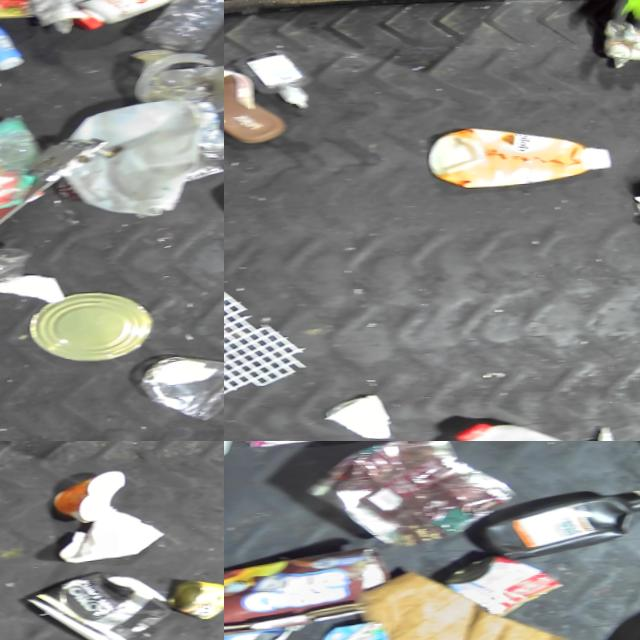can: (298, 441, 513, 553), (19, 292, 148, 366), (434, 554, 556, 621), (163, 580, 224, 625)
milk_jug: (52, 101, 199, 222)
non_white_jug: (419, 123, 612, 195), (472, 494, 640, 565)
plastic_bottle: (133, 0, 224, 56)
